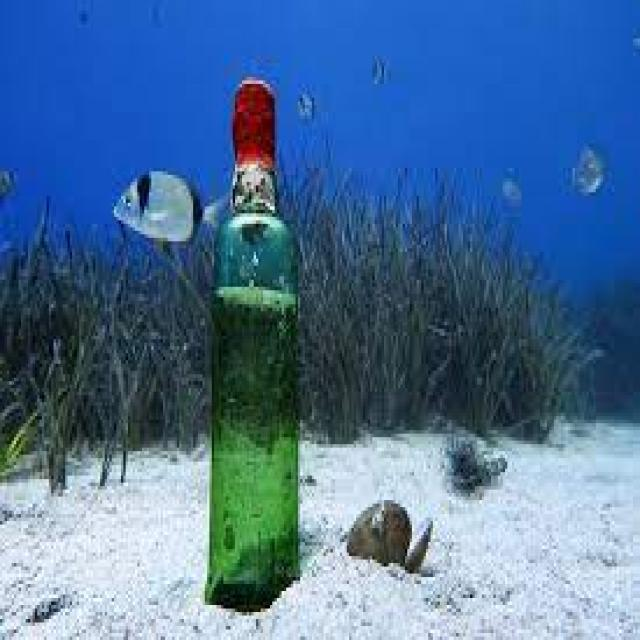Glass: (204, 30, 332, 619)
